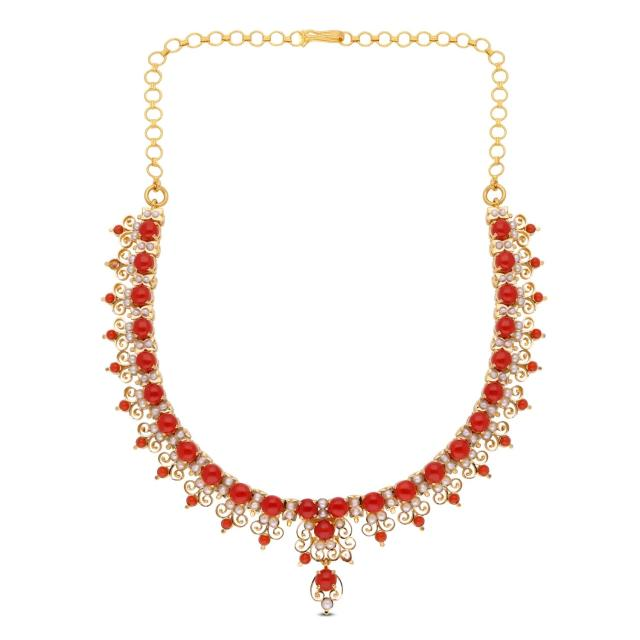missing gem: (341, 551, 351, 561)
